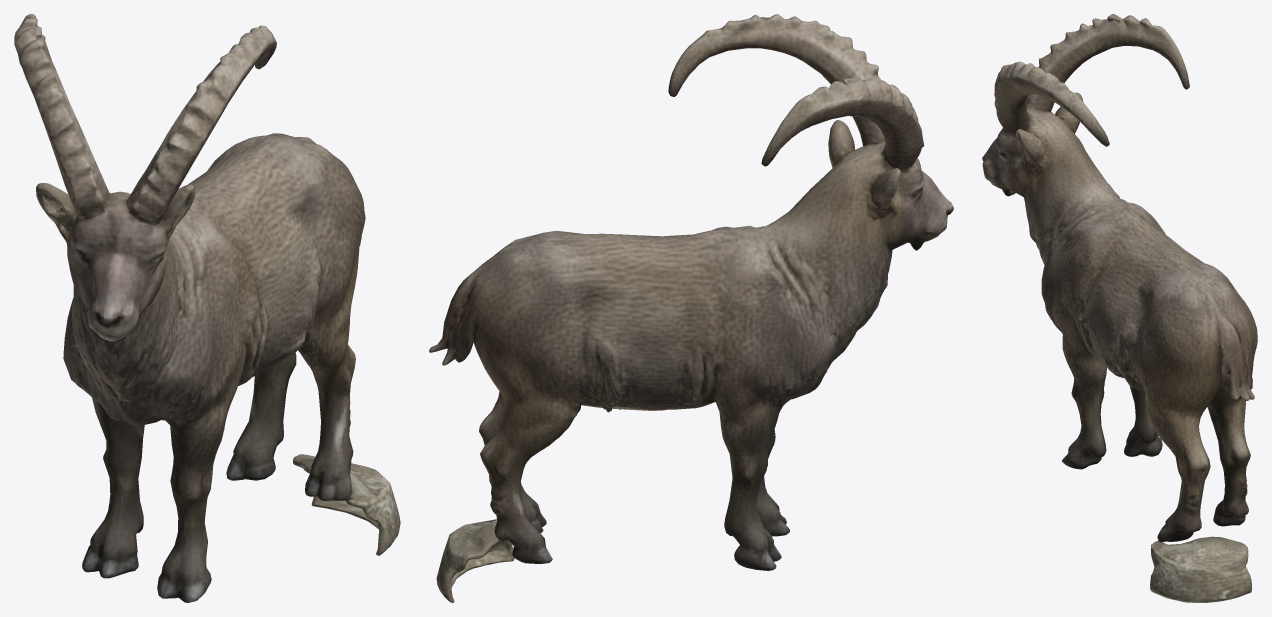
Rendered from alpine-ibex-v20.glb.
3 renders of one model, left to right at view 1: azimuth 30°, elevation 25°; view 2: azimuth 150°, elevation 25°; view 3: azimuth 270°, elevation 25°, orthographic. The views are drawn at different scales.
Parts seen in each view (by area): view 1: geometry_0; view 2: geometry_0; view 3: geometry_0.
Boxes of the visible parts, left/top/right/bottom form: geometry_0: left=14, top=14, right=400, bottom=602; geometry_0: left=429, top=14, right=953, bottom=602; geometry_0: left=982, top=14, right=1257, bottom=602.
Size of the model in its own units: 1.4 by 1.92 by 1.06.
1 material, 1 textured.
